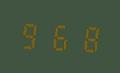eight: (73, 20, 99, 55)
nine: (18, 17, 44, 52)
six: (46, 19, 72, 53)
